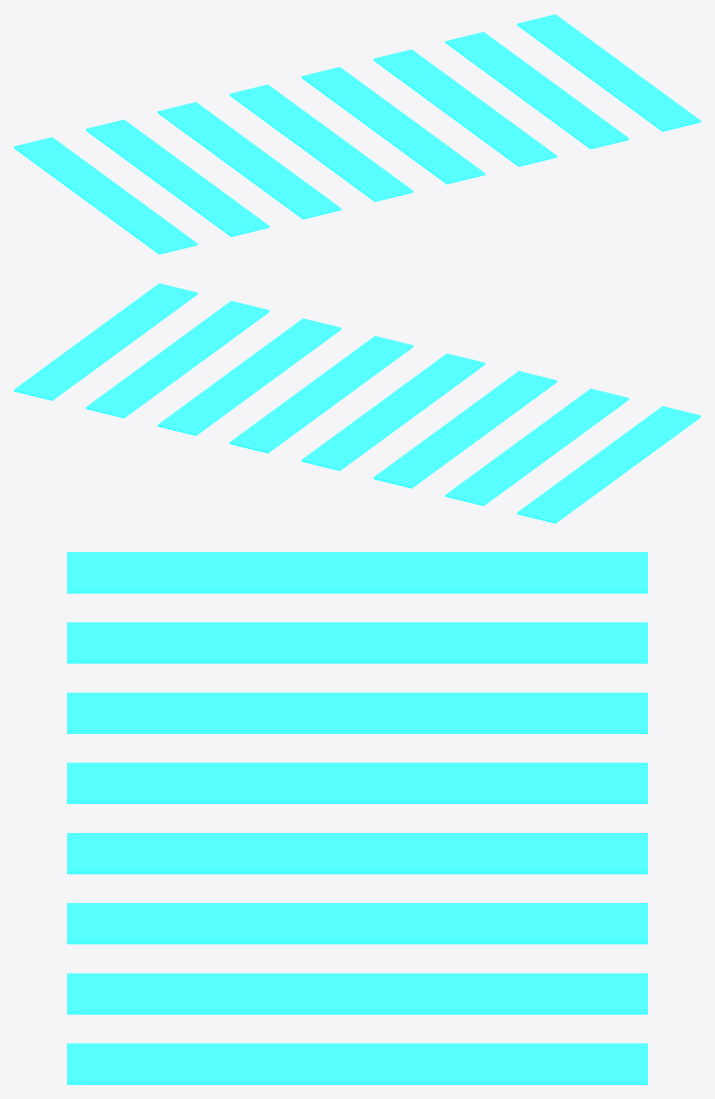
Rendered from City_PedestrianHologram_6m_WalkGrid.glb.
3 renders of one model, top to bottom at view 1: azimuth 30°, elevation 25°; view 2: azimuth 150°, elevation 25°; view 3: azimuth 270°, elevation 25°, orthographic. The views are drawn at different scales.
Parts seen in each view (by area): view 1: City_PedestrianHologram_6m_WalkGrid; view 2: City_PedestrianHologram_6m_WalkGrid; view 3: City_PedestrianHologram_6m_WalkGrid.
Part boxes in pixels (x1,y1,x2,y2): City_PedestrianHologram_6m_WalkGrid: [14, 14, 700, 254]; City_PedestrianHologram_6m_WalkGrid: [14, 283, 700, 523]; City_PedestrianHologram_6m_WalkGrid: [67, 552, 647, 1084].
Size of the model in its own units: 4.52 by 0.016 by 2.1.
